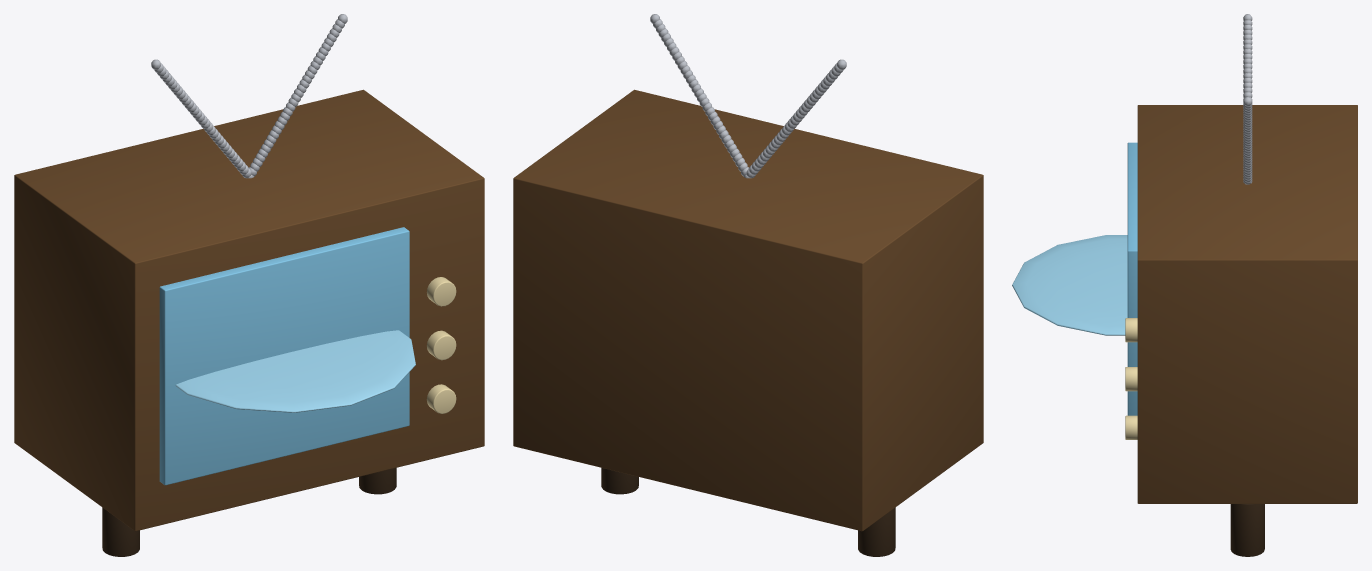
The picture shows the model from 3 angles, left to right: view 1: azimuth 30°, elevation 25°; view 2: azimuth 150°, elevation 25°; view 3: azimuth 270°, elevation 25°; orthographic projection. The views are drawn at different scales.
Visible parts, largest first — view 1: tv; view 2: tv; view 3: tv.
Part boxes in pixels (bbox=[...]): tv: bbox=[14, 14, 484, 556]; tv: bbox=[513, 14, 983, 556]; tv: bbox=[1012, 14, 1357, 556].
Bounding box in the file's own units: 1.5 × 1.97 × 1.41.
